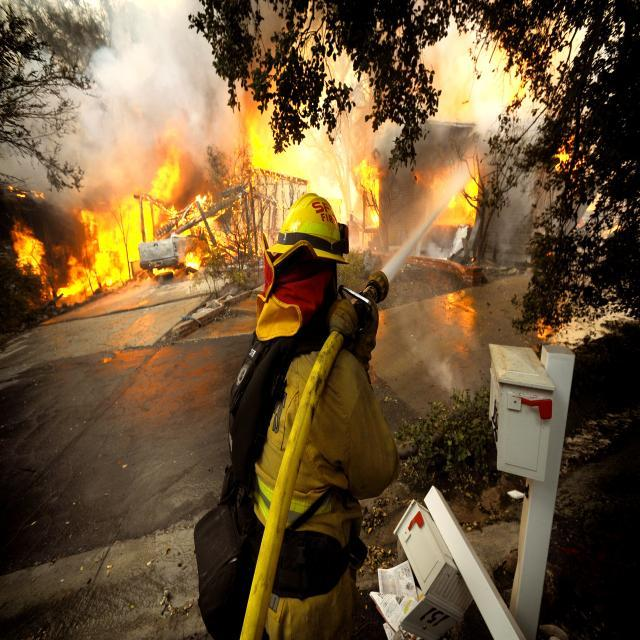Fire: (4, 141, 196, 329), (229, 49, 309, 194), (150, 182, 230, 286), (411, 164, 489, 232), (351, 152, 389, 214)
